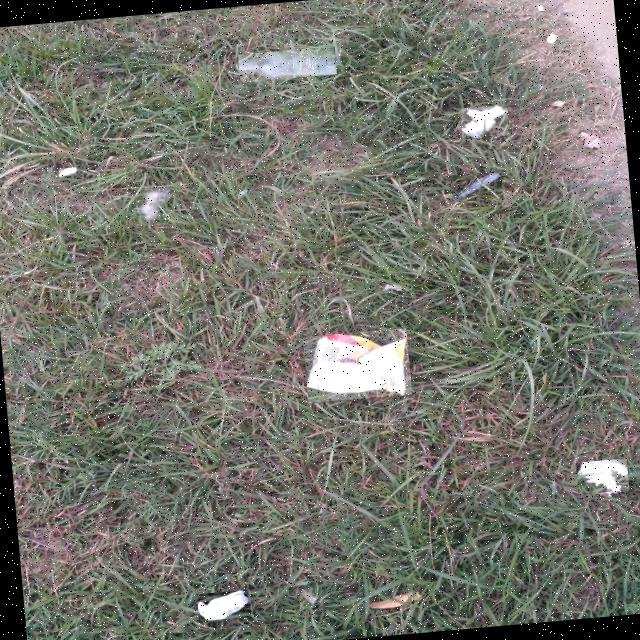Cigarette: (537, 4, 544, 10)
Crisp packet: (307, 334, 407, 395)
Glass bottle: (240, 51, 335, 78)
Plastic film: (198, 590, 249, 621), (452, 171, 501, 202), (299, 589, 318, 607)
Unlabeled litter: (578, 460, 628, 490), (462, 105, 507, 137), (59, 167, 76, 176)
